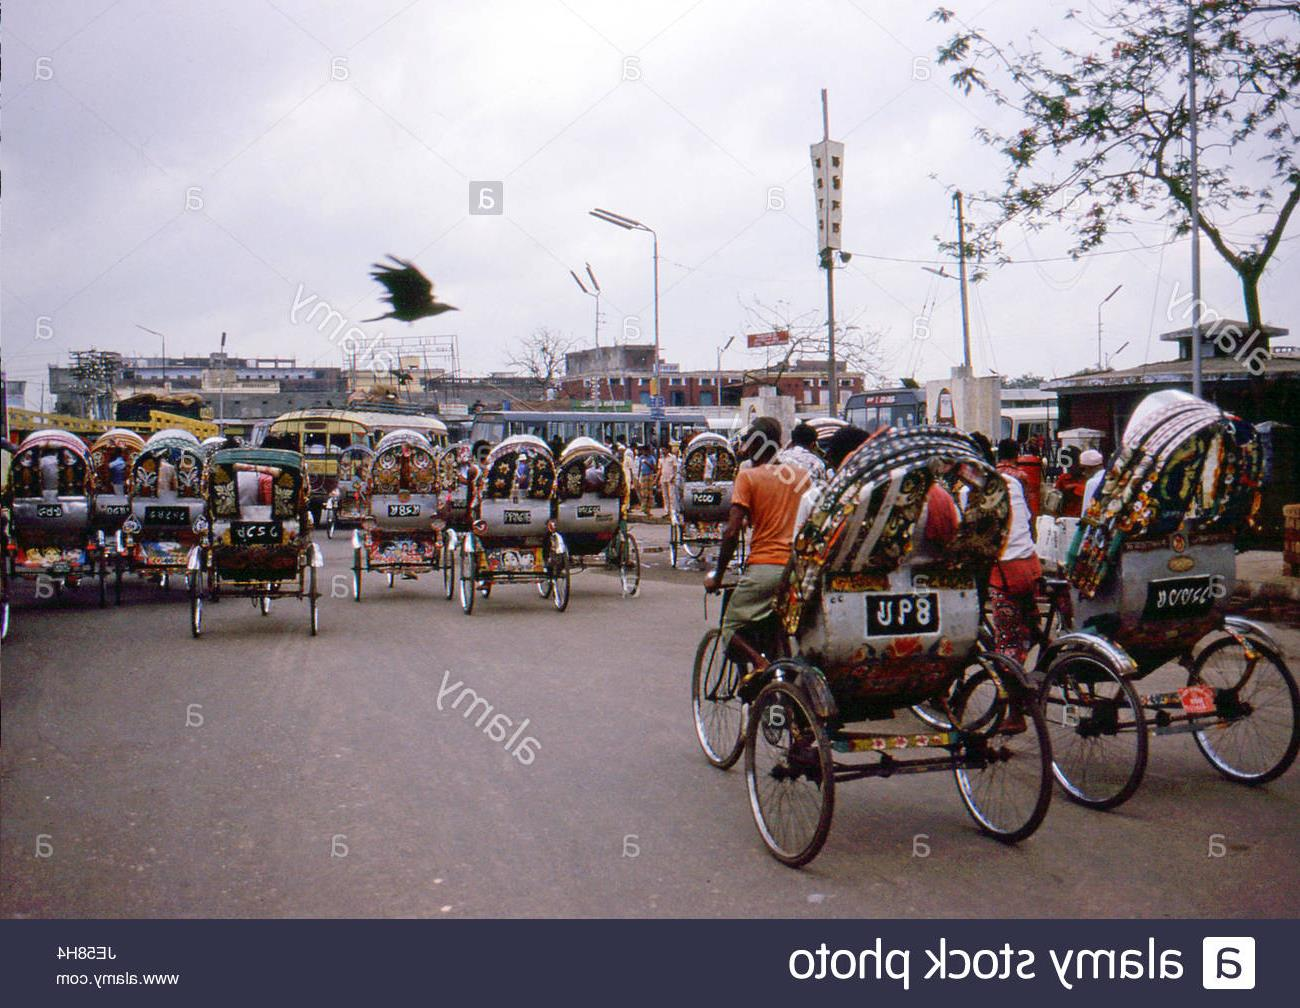Rickshaw: (712, 426, 1056, 857), (1030, 372, 1295, 784), (200, 437, 323, 628), (341, 422, 458, 604), (461, 422, 568, 615), (557, 417, 654, 607), (112, 424, 218, 591), (656, 419, 751, 586), (13, 414, 96, 601), (87, 416, 144, 528)
